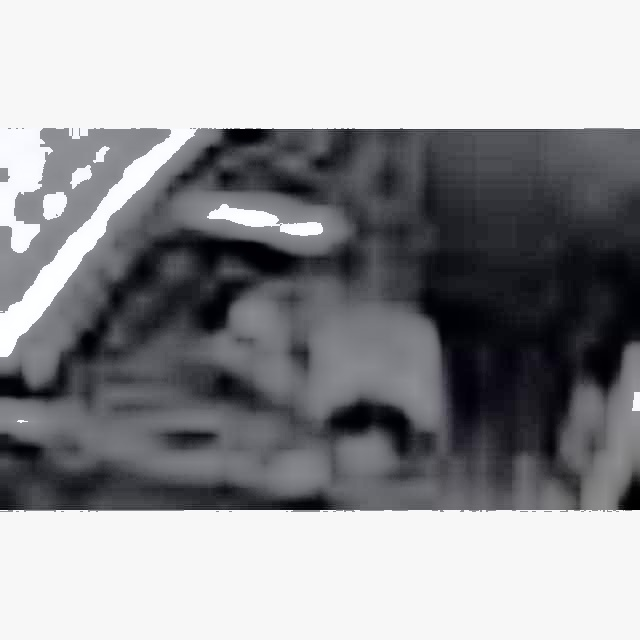pakai: (177, 252, 449, 415)
